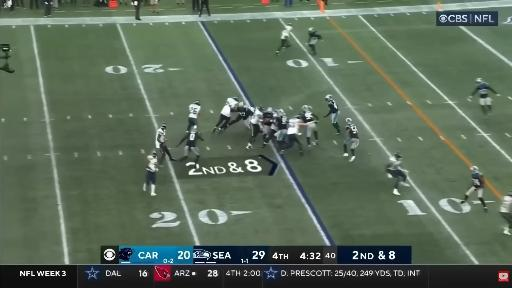Helmet: (149, 150, 157, 158), (326, 95, 334, 102), (396, 152, 402, 161), (277, 110, 284, 117), (470, 166, 478, 172), (192, 125, 198, 132), (302, 106, 309, 112), (346, 118, 352, 124), (258, 105, 264, 111), (294, 115, 303, 119), (476, 78, 482, 84), (233, 96, 239, 101), (239, 102, 245, 107), (267, 108, 272, 114), (162, 123, 166, 130), (288, 22, 293, 27), (308, 27, 314, 31), (195, 100, 199, 105), (509, 191, 511, 196)
Jersey: (472, 83, 495, 98), (221, 98, 238, 116), (186, 131, 201, 147), (287, 118, 300, 134), (500, 196, 511, 213), (387, 157, 401, 170), (346, 123, 358, 138), (472, 172, 483, 188), (156, 128, 165, 147), (275, 116, 287, 130), (239, 107, 253, 119), (251, 109, 262, 124), (301, 111, 314, 123), (308, 31, 322, 42), (189, 104, 200, 118), (221, 103, 232, 117), (271, 113, 280, 130), (147, 157, 157, 172), (281, 26, 292, 39), (263, 112, 273, 125), (328, 100, 338, 113), (226, 98, 238, 107)
Player: (461, 166, 487, 212), (469, 78, 499, 115), (176, 126, 203, 165), (280, 116, 305, 155), (387, 152, 409, 195), (213, 97, 238, 133), (262, 109, 284, 147), (156, 123, 175, 165), (246, 106, 263, 149), (300, 106, 318, 146), (343, 118, 359, 162), (324, 95, 341, 134), (143, 152, 158, 195), (228, 103, 253, 127), (275, 110, 288, 151), (276, 24, 292, 55), (500, 191, 511, 235), (306, 28, 323, 55), (187, 100, 201, 131), (159, 139, 175, 166), (261, 108, 274, 141)
